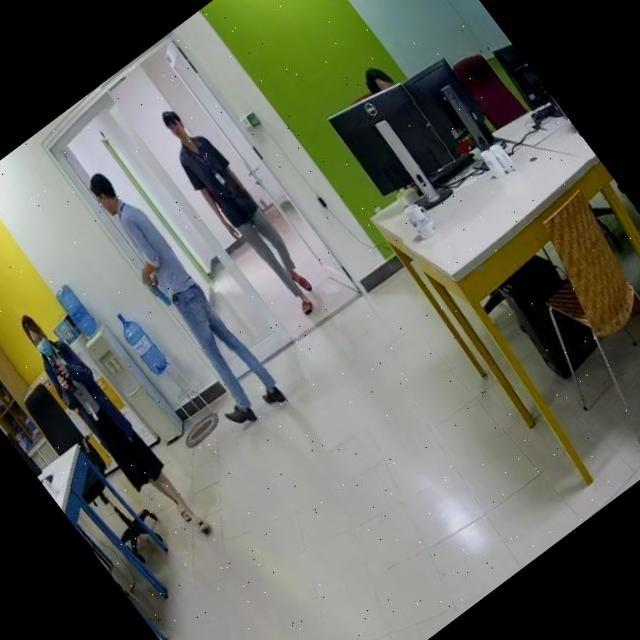person: (76, 163, 288, 424), (7, 300, 215, 556), (150, 100, 334, 327)
